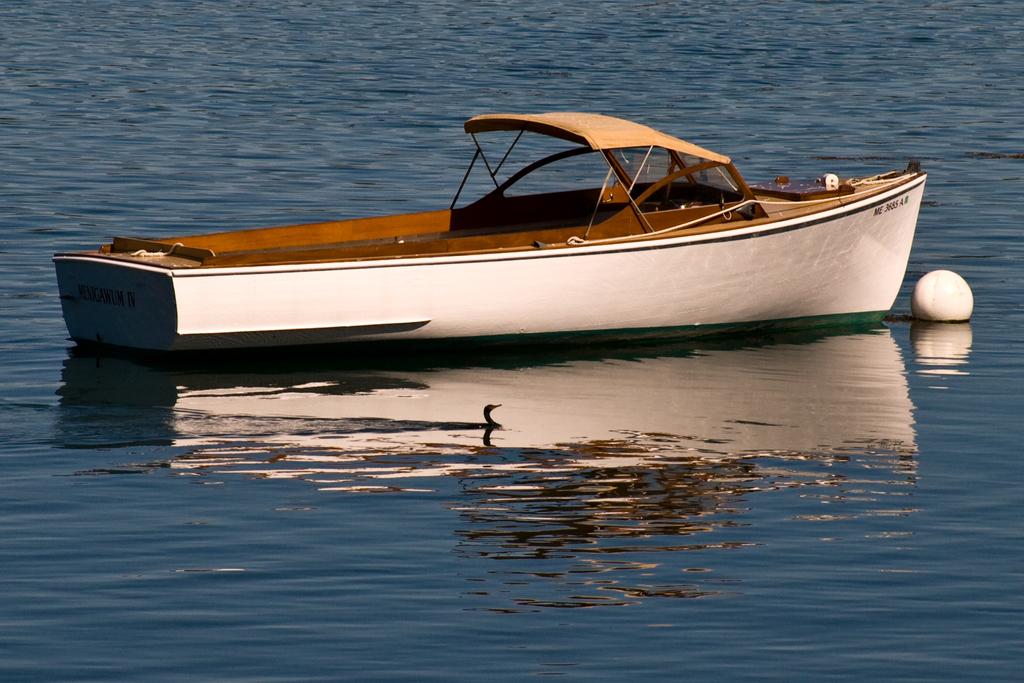boat: (40, 71, 942, 382)
